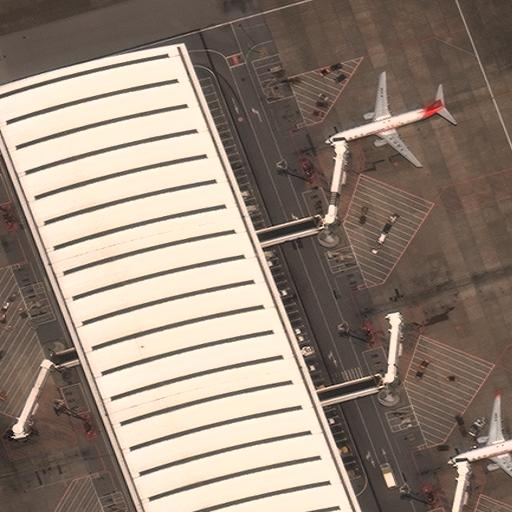Medium Civil Transport: (324, 73, 445, 168), (447, 397, 512, 486)
